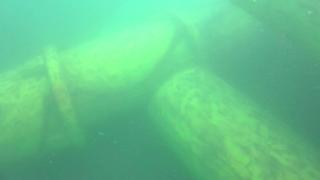pipe: (1, 11, 206, 169), (144, 67, 320, 180), (228, 1, 320, 65)
